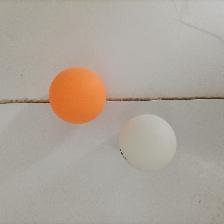WhiteBall: (118, 113, 175, 170)
YellowBall: (48, 66, 105, 124)
